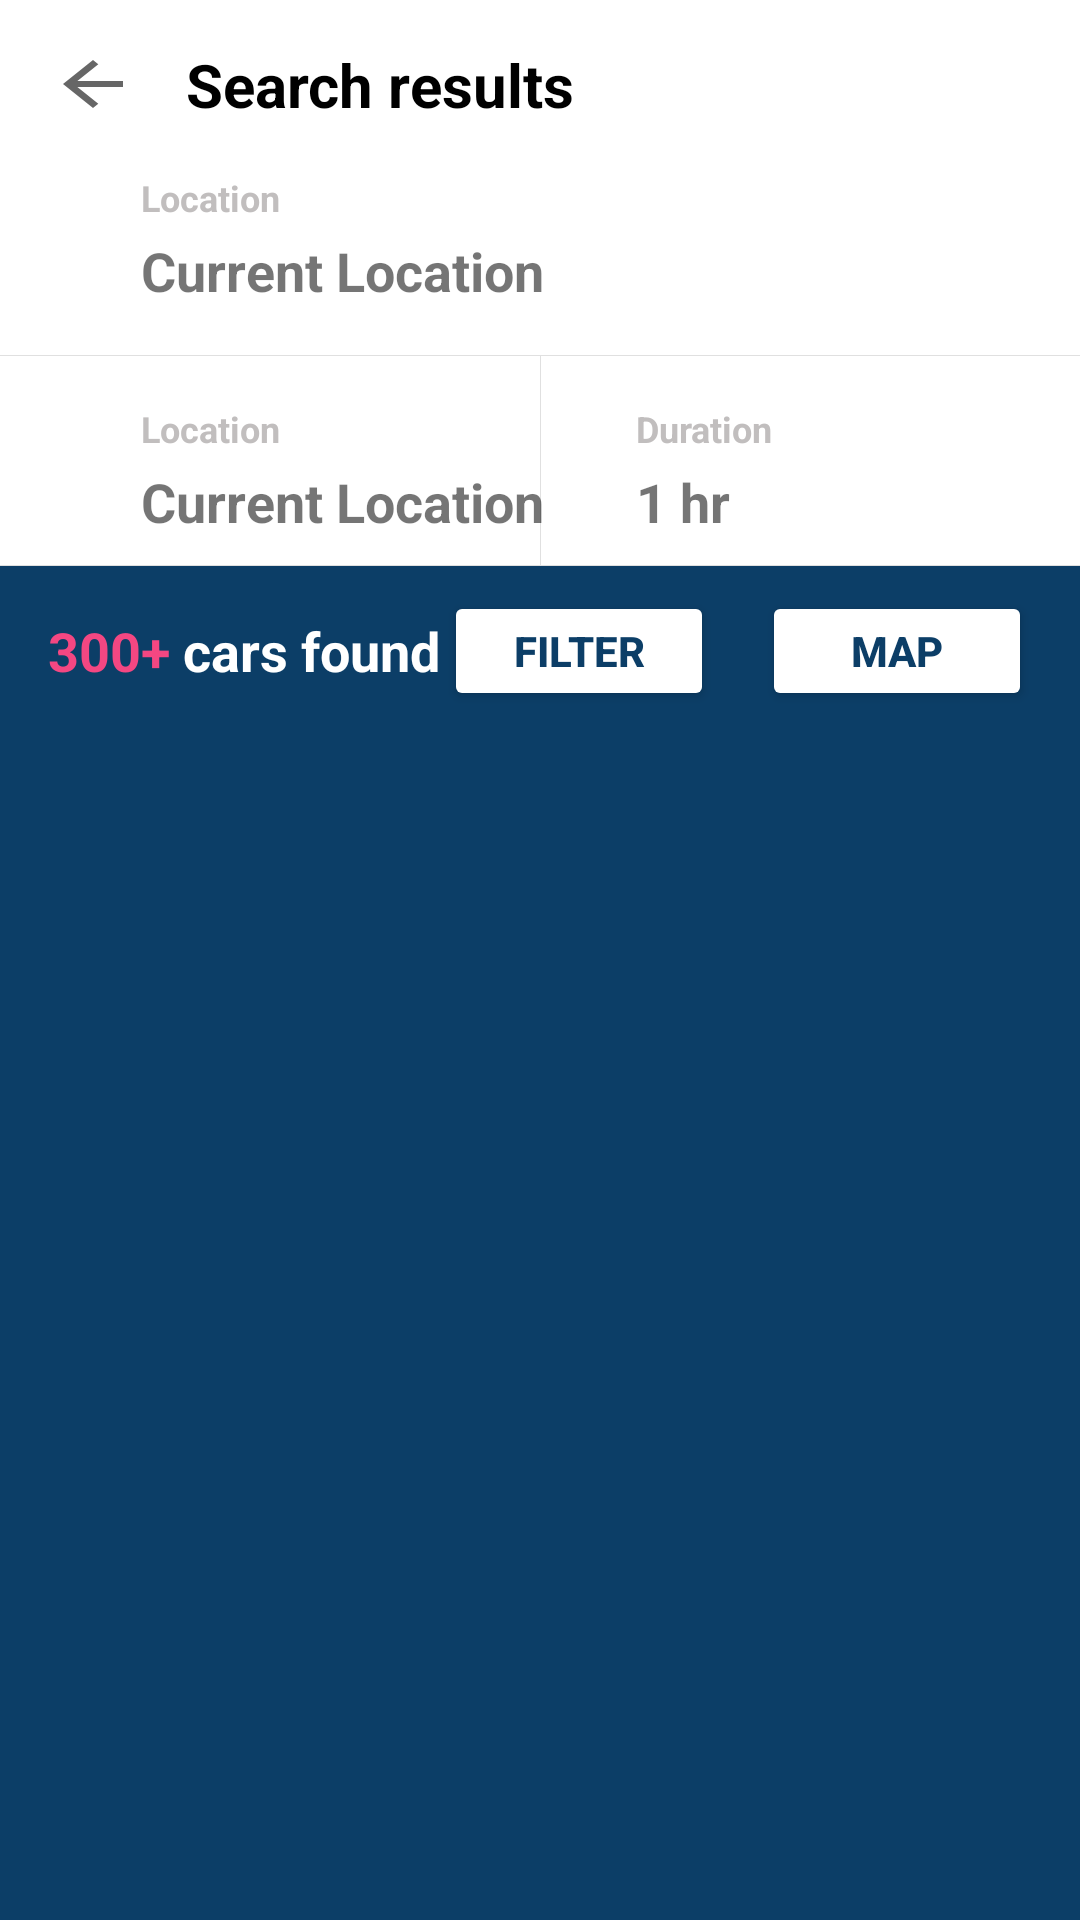

Screen size 1080x1920. Icon name, then its center in pixels as point (x, y):
arrow back: point (93, 84)
